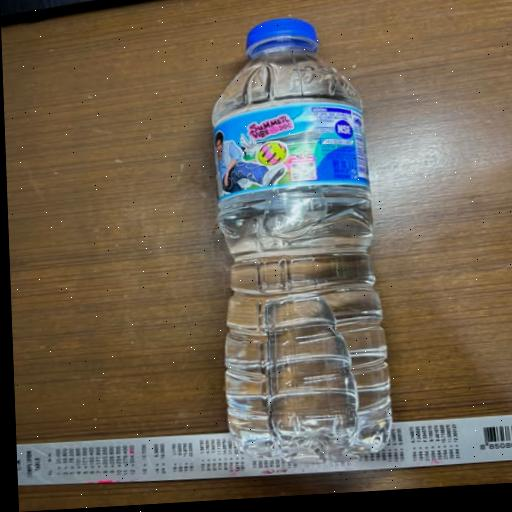ba: (168, 0, 473, 483)
